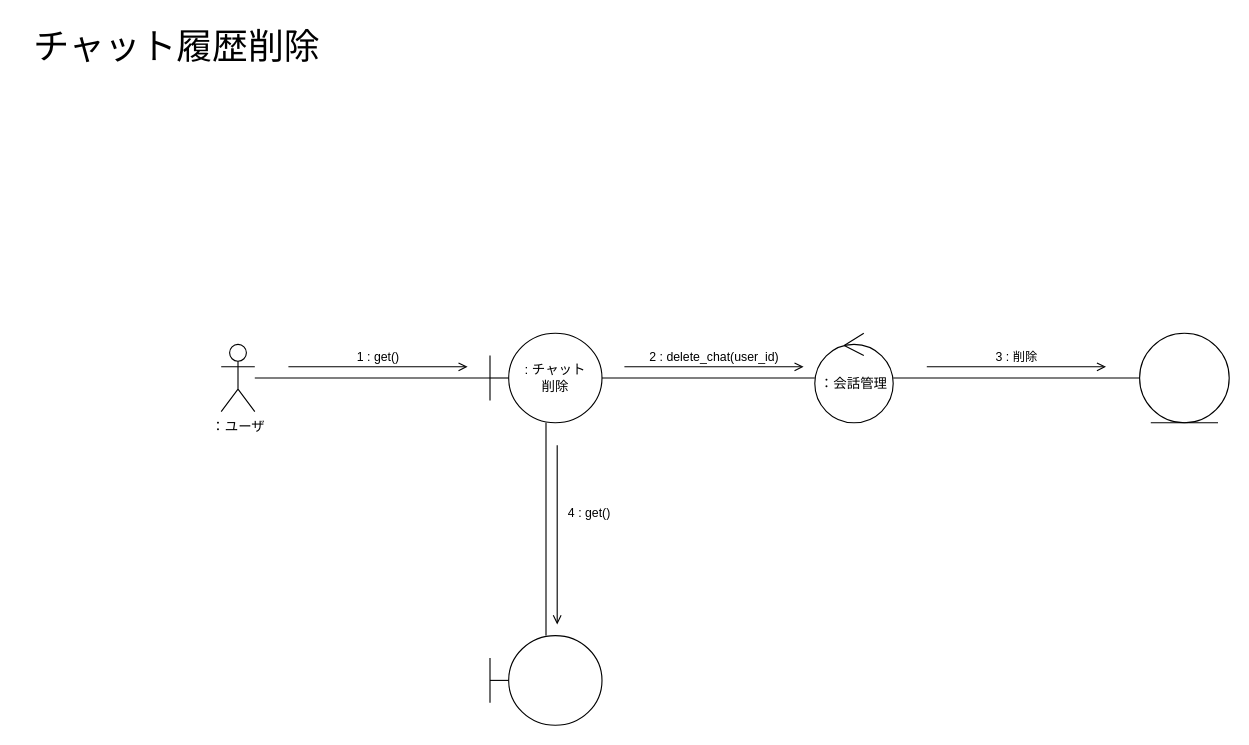
Some shapes in this 1249 by 745 pixel diagram are drawn without their labels. The box of each missing label's shape, as (x1, y1, x2, y2) in pixels:
: チャット ページ: (489, 634, 602, 725)
：チャット: (1138, 332, 1229, 423)
